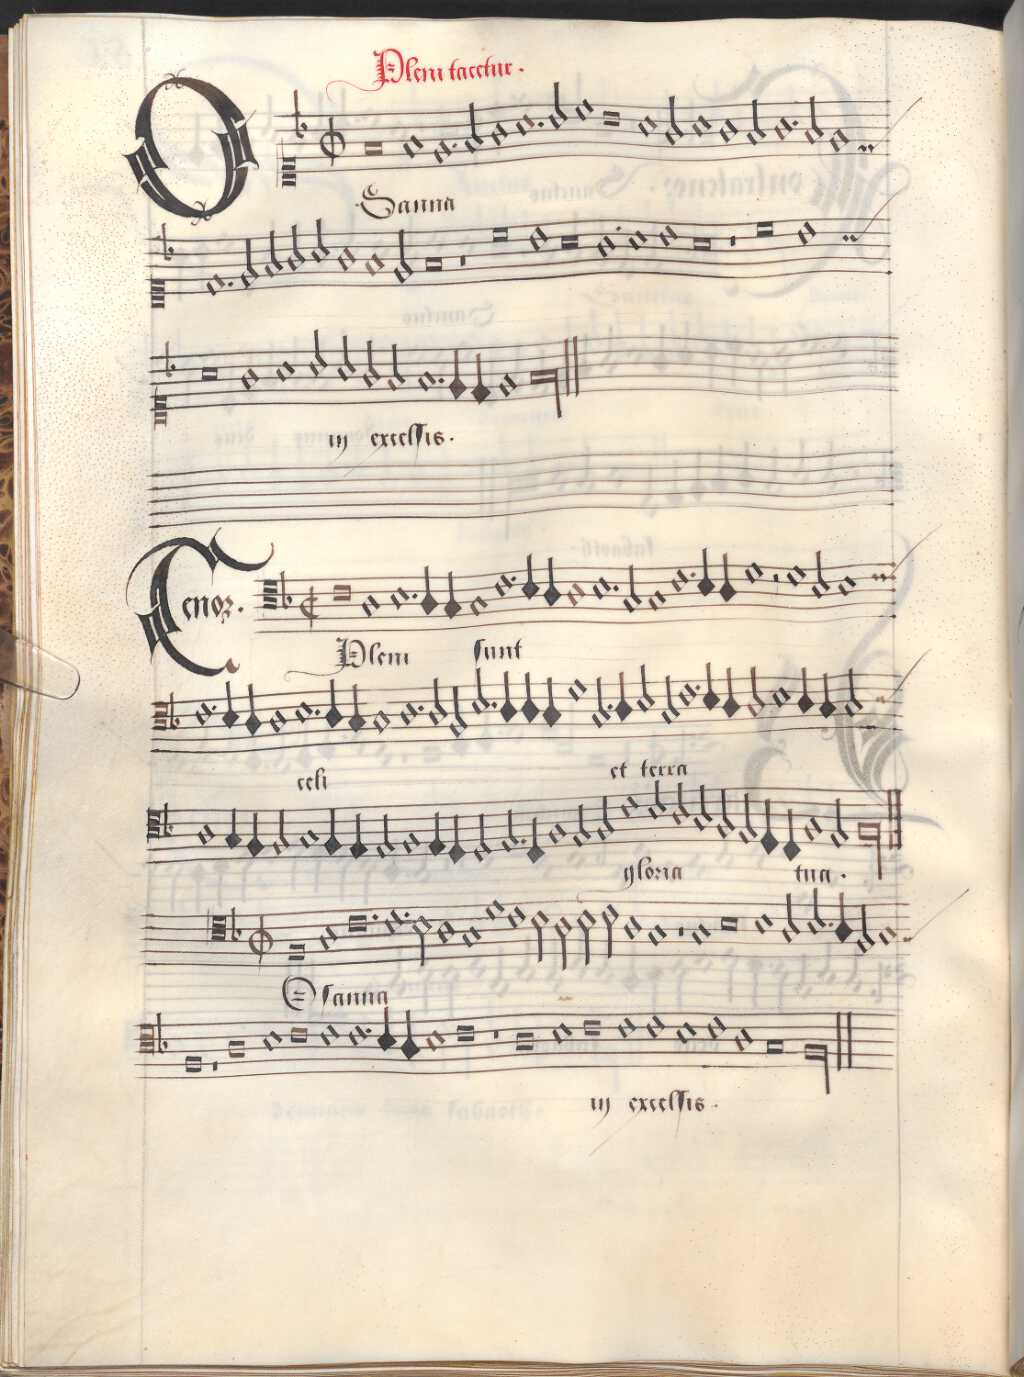barline: (833, 999, 861, 1084)
breve_5: (450, 1013, 480, 1053), (578, 1008, 608, 1046), (284, 1017, 313, 1052)
breve_7: (510, 1021, 542, 1060), (223, 1030, 252, 1067)
breve_8: (760, 1030, 791, 1064)
breve_9: (181, 1045, 207, 1079)
c clef_5: (134, 1006, 158, 1066)
flat_6: (154, 1009, 173, 1064)
longa_9: (799, 1033, 833, 1098)
point: (358, 1018, 378, 1041)
semibreve rest: (208, 1010, 223, 1090), (488, 1006, 504, 1080)
semibreve_5: (643, 1003, 669, 1049), (703, 1004, 729, 1049), (317, 1012, 342, 1057), (613, 1005, 638, 1049), (345, 1014, 369, 1057)
semibreve_6: (673, 1009, 700, 1054), (547, 1011, 575, 1054), (259, 1018, 285, 1060), (428, 1041, 447, 1061)
semibreve_7: (731, 1016, 757, 1061)
semiminim_6: (376, 1000, 397, 1061)
semiminim_7: (398, 1003, 419, 1068)
